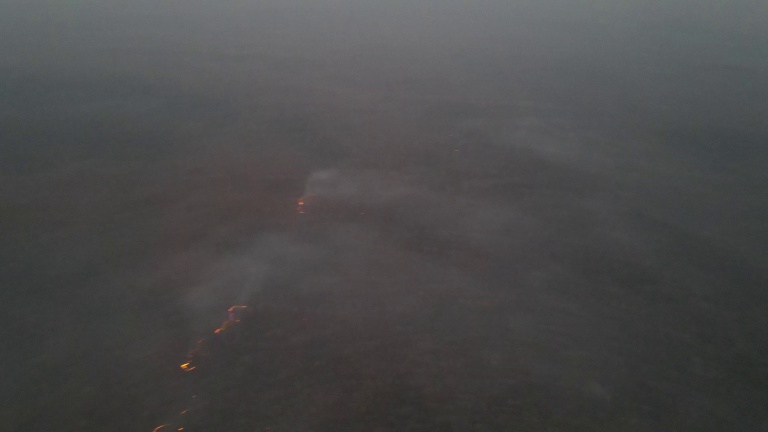fire: (211, 302, 255, 334), (177, 356, 199, 377), (293, 193, 311, 216)
smoke: (203, 237, 312, 297), (302, 166, 397, 203)
